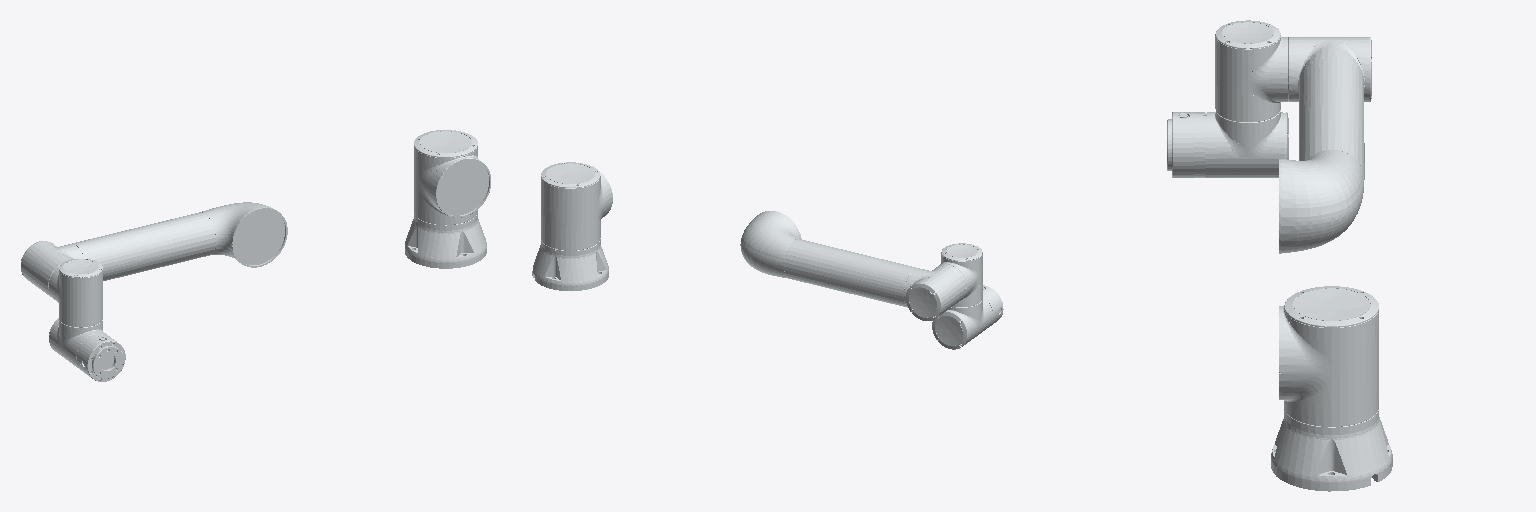
robot.urdf — fr5v6:
<?xml version="1.0" encoding="utf-8"?>
<!-- This URDF was automatically created by SolidWorks to URDF Exporter! Originally created by [author] ([email redacted]) 
     Commit Version: 1.5.1-0-g916b5db  Build Version: 1.5.7152.31018
     For more information, please see http://wiki.ros.org/sw_urdf_exporter -->
<robot
  name="fr5v6">
  
  <link name="world">
  </link>
  <joint name="world" type="fixed">
    <parent link="world"/>
    <child link="base_link"/>
  </joint>

  <link
    name="base_link">
    <inertial>
      <origin
        xyz="-0.00031896 -0.00029673 0.042463"
        rpy="0 0 0" />
      <mass
        value="1.6185" />
      <inertia
        ixx="0.0030836"
        ixy="1.5354E-05"
        ixz="-1.9315E-05"
        iyy="0.0030825"
        iyz="-1.7918E-05"
        izz="0.0045209" />
    </inertial>
    <visual>
      <origin
        xyz="0 0 0"
        rpy="0 0 0" />
      <geometry>
        <mesh
          filename="package://fr5_description/meshes/fr5v6/visual/base_link.DAE" />
      </geometry>
      <material
        name="">
        <color
          rgba="0.89804 0.91765 0.92941 1" />
      </material>
    </visual>
    <collision>
      <origin
        xyz="0 0 0"
        rpy="0 0 0" />
      <geometry>
        <mesh
          filename="package://fr5_description/meshes/fr5v6/collision/base_link.STL" />
      </geometry>
    </collision>
  </link>
  <link
    name="j1_Link">
    <inertial>
      <origin
        xyz="5.0029E-07 -0.0040922 0.14629"
        rpy="0 0 0" />
      <mass
        value="4.3771" />
      <inertia
        ixx="0.010731"
        ixy="-8.0587E-09"
        ixz="-3.6773E-08"
        iyy="0.010408"
        iyz="0.00012853"
        izz="0.0081793" />
    </inertial>
    <visual>
      <origin
        xyz="0 0 0"
        rpy="0 0 0" />
      <geometry>
        <mesh
          filename="package://fr5_description/meshes/fr5v6/visual/j1_Link.DAE" />
      </geometry>
      <material
        name="">
        <color
          rgba="0.89804 0.91765 0.92941 1" />
      </material>
    </visual>
    <collision>
      <origin
        xyz="0 0 0"
        rpy="0 0 0" />
      <geometry>
        <mesh
          filename="package://fr5_description/meshes/fr5v6/collision/j1_Link.STL" />
      </geometry>
    </collision>
  </link>
  <joint
    name="j1"
    type="revolute">
    <origin
      xyz="0 0 0"
      rpy="0 0 0" />
    <parent
      link="base_link" />
    <child
      link="j1_Link" />
    <axis
      xyz="0 0 1" />
    <limit
      lower="-3.0543"
      upper="3.0543"
      effort="150"
      velocity="3.15" />
    <calibration
      rising="0"
      falling="0" />
    <dynamics
      damping="0"
      friction="0" />
    <safety_controller
      soft_lower_limit="-3.0543"
      soft_upper_limit="3.0543"
      k_position="15"
      k_velocity="10" />
  </joint>
  <link
    name="j2_Link">
    <inertial>
      <origin
        xyz="-0.2125 -5.7643E-09 0.1346"
        rpy="0 0 0" />
      <mass
        value="14.458" />
      <inertia
        ixx="0.028392"
        ixy="-1.337E-07"
        ixz="-3.9895E-09"
        iyy="0.4559"
        iyz="4.214E-08"
        izz="0.44974" />
    </inertial>
    <visual>
      <origin
        xyz="0 0 0"
        rpy="0 0 0" />
      <geometry>
        <mesh
          filename="package://fr5_description/meshes/fr5v6/visual/j2_Link.DAE" />
      </geometry>
      <material
        name="">
        <color
          rgba="0.89804 0.91765 0.92941 1" />
      </material>
    </visual>
    <collision>
      <origin
        xyz="0 0 0"
        rpy="0 0 0" />
      <geometry>
        <mesh
          filename="package://fr5_description/meshes/fr5v6/collision/j2_Link.STL" />
      </geometry>
    </collision>
  </link>
  <joint
    name="j2"
    type="revolute">
    <origin
      xyz="0 0 0.152"
      rpy="1.5708 0 0" />
    <parent
      link="j1_Link" />
    <child
      link="j2_Link" />
    <axis
      xyz="0 0 1" />
    <limit
      lower="-4.6251"
      upper="1.4835"
      effort="150"
      velocity="3.15" />
    <calibration
      rising="0"
      falling="0" />
    <dynamics
      damping="0"
      friction="0" />
    <safety_controller
      soft_lower_limit="-4.6251"
      soft_upper_limit="1.4835"
      k_position="15"
      k_velocity="10" />
  </joint>
  <link
    name="j3_Link">
    <inertial>
      <origin
        xyz="-0.18793 -8.4503E-07 0.0066357"
        rpy="0 0 0" />
      <mass
        value="7.6737" />
      <inertia
        ixx="0.0085096"
        ixy="2.1613E-06"
        ixz="-0.0068678"
        iyy="0.16971"
        iyz="3.7086E-08"
        izz="0.16854" />
    </inertial>
    <visual>
      <origin
        xyz="0 0 0"
        rpy="0 0 0" />
      <geometry>
        <mesh
          filename="package://fr5_description/meshes/fr5v6/visual/j3_Link.DAE" />
      </geometry>
      <material
        name="">
        <color
          rgba="0.89804 0.91765 0.92941 1" />
      </material>
    </visual>
    <collision>
      <origin
        xyz="0 0 0"
        rpy="0 0 0" />
      <geometry>
        <mesh
          filename="package://fr5_description/meshes/fr5v6/collision/j3_Link.STL" />
      </geometry>
    </collision>
  </link>
  <joint
    name="j3"
    type="revolute">
    <origin
      xyz="-0.425 0 0"
      rpy="0 0 0" />
    <parent
      link="j2_Link" />
    <child
      link="j3_Link" />
    <axis
      xyz="0 0 1" />
    <limit
      lower="-2.8274"
      upper="2.8274"
      effort="150"
      velocity="3.15" />
    <calibration
      rising="0"
      falling="0" />
    <dynamics
      damping="0"
      friction="0" />
    <safety_controller
      soft_lower_limit="-2.8274"
      soft_upper_limit="2.8274"
      k_position="15"
      k_velocity="10" />
  </joint>
  <link
    name="j4_Link">
    <inertial>
      <origin
        xyz="4.98E-07 -0.003754 0.097155"
        rpy="0 0 0" />
      <mass
        value="1.6266" />
      <inertia
        ixx="0.00216"
        ixy="4.888E-09"
        ixz="3.1528E-08"
        iyy="0.0015455"
        iyz="3.7678E-05"
        izz="0.0019902" />
    </inertial>
    <visual>
      <origin
        xyz="0 0 0"
        rpy="0 0 0" />
      <geometry>
        <mesh
          filename="package://fr5_description/meshes/fr5v6/visual/j4_Link.DAE" />
      </geometry>
      <material
        name="">
        <color
          rgba="0.89804 0.91765 0.92941 1" />
      </material>
    </visual>
    <collision>
      <origin
        xyz="0 0 0"
        rpy="0 0 0" />
      <geometry>
        <mesh
          filename="package://fr5_description/meshes/fr5v6/collision/j4_Link.STL" />
      </geometry>
    </collision>
  </link>
  <joint
    name="j4"
    type="revolute">
    <origin
      xyz="-0.39501 0 0"
      rpy="0 0 0" />
    <parent
      link="j3_Link" />
    <child
      link="j4_Link" />
    <axis
      xyz="0 0 1" />
    <limit
      lower="-4.6251"
      upper="1.4835"
      effort="28"
      velocity="3.2" />
    <calibration
      rising="0"
      falling="0" />
    <dynamics
      damping="0"
      friction="0" />
    <safety_controller
      soft_lower_limit="-4.6251"
      soft_upper_limit="1.4835"
      k_position="15"
      k_velocity="10" />
  </joint>
  <link
    name="j5_Link">
    <inertial>
      <origin
        xyz="-4.5588E-07 0.0038617 0.098257"
        rpy="0 0 0" />
      <mass
        value="1.5812" />
      <inertia
        ixx="0.0020612"
        ixy="8.7064E-09"
        ixz="-3.4742E-08"
        iyy="0.0014477"
        iyz="-2.8534E-05"
        izz="0.0019573" />
    </inertial>
    <visual>
      <origin
        xyz="0 0 0"
        rpy="0 0 0" />
      <geometry>
        <mesh
          filename="package://fr5_description/meshes/fr5v6/visual/j5_Link.DAE" />
      </geometry>
      <material
        name="">
        <color
          rgba="0.89804 0.91765 0.92941 1" />
      </material>
    </visual>
    <collision>
      <origins
        xyz="0 0 0"
        rpy="0 0 0" />
      <geometry>
        <mesh
          filename="package://fr5_description/meshes/fr5v6/collision/j5_Link.STL" />
      </geometry>
    </collision>
  </link>
  <joint
    name="j5"
    type="revolute">
    <origin
      xyz="0 0 0.1021"
      rpy="1.5708 0 0" />
    <parent
      link="j4_Link" />
    <child
      link="j5_Link" />
    <axis
      xyz="0 0 1" />
    <limit
      lower="-3.0543"
      upper="3.0543"
      effort="28"
      velocity="3.2" />
    <calibration
      rising="0"
      falling="0" />
    <dynamics
      damping="0"
      friction="0" />
    <safety_controller
      soft_lower_limit="-3.0543"
      soft_upper_limit="3.0543"
      k_position="15"
      k_velocity="10" />
  </joint>
  <link
    name="j6_Link">
    <inertial>
      <origin
        xyz="7.7496E-05 1.7751E-05 0.076122"
        rpy="0 0 0" />
      <mass
        value="0.52542" />
      <inertia
        ixx="0.00027721"
        ixy="-1.8677E-09"
        ixz="-1.188E-07"
        iyy="0.00027839"
        iyz="2.2607E-07"
        izz="0.00041605" />
    </inertial>
    <visual>
      <origin
        xyz="0 0 0"
        rpy="0 0 0" />
      <geometry>
        <mesh
          filename="package://fr5_description/meshes/fr5v6/visual/j6_Link.DAE" />
      </geometry>
      <material
        name="">
        <color
          rgba="0.89804 0.91765 0.92941 1" />
      </material>
    </visual>
    <collision>
      <origin
        xyz="0 0 0"
        rpy="0 0 0" />
      <geometry>
        <mesh
          filename="package://fr5_description/meshes/fr5v6/collision/j6_Link.STL" />
      </geometry>
    </collision>
  </link>
  <joint
    name="j6"
    type="revolute">
    <origin
      xyz="0 0 0.102"
      rpy="-1.5708 0 0" />
    <parent
      link="j5_Link" />
    <child
      link="j6_Link" />
    <axis
      xyz="0 0 1" />
    <limit
      lower="-3.0543"
      upper="3.0543"
      effort="28"
      velocity="3.2" />
    <calibration
      rising="0"
      falling="0" />
    <dynamics
      damping="0"
      friction="0" />
    <safety_controller
      soft_lower_limit="-3.0543"
      soft_upper_limit="3.0543"
      k_position="15"
      k_velocity="10" />
  </joint>
  
  <link
    name="hand_base_link">
    <inertial>
      <origin
        xyz="1.045 -0.01 -0.1"
        rpy="0 0 0" />
      <mass
        value="1.415640442478951" />
      <inertia
        ixx="0.00019621588068043"
        ixy="-2.95674210904856E-07"
        ixz="-1.95611838748227E-08"
        iyy="0.000433342528155916"
        iyz="2.12715894328206E-08"
        izz="0.000396532471899526" />
    </inertial>
    <visual>
      <origin
        xyz="0.04 -0.005 0"
        rpy="0 0 0" />
      <geometry>
        <mesh
          filename="package://fr5_description/meshes/hand_base_link.STL" />
      </geometry>
      <material
        name="">
        <color
          rgba="1 1 1 1" />
      </material>
    </visual>
    <collision>
      <origin
        xyz="0.04 -0.005 0"
        rpy="0 0 0" />
      <geometry>
        <mesh
          filename="package://fr5_description/meshes/hand_base_link.STL" />
      </geometry>
    </collision>
  </link>
  <joint name="arm_hand_joint" type="fixed">
    <origin xyz="0 0 0.12" rpy="0 0 3.14159" />
    <parent link="j6_Link" />
    <child link="hand_base_link" />
    <axis xyz="0 0 0" />
  <limit lower="-2.79" upper="2.79" effort="100"/>
  </joint>
  <link
    name="finger_link1">
    <inertial>
      <origin
        xyz="-0.0765920818887161 0.0785524897759977 0.00485564932597477"
        rpy="0 0 0" />
      <mass
        value="0.0589543896992846" />
      <inertia
        ixx="2.37128965154064E-05"
        ixy="4.94815116549898E-06"
        ixz="-3.83269385718325E-06"
        iyy="1.98369145830284E-05"
        iyz="4.62772008724202E-06"
        izz="3.37272907966157E-05" />
    </inertial>
    <visual>
      <origin
        xyz="0 0 0"
        rpy="0 0 0" />
      <geometry>
        <mesh
          filename="package://fr5_description/meshes/finger_link1.STL" />
      </geometry>
      <material
        name="">
        <color
          rgba="1 1 1 1" />
      </material>
    </visual>
    <collision>
      <origin
        xyz="0 0 0"
        rpy="0 0 0" />
      <geometry>
        <mesh
          filename="package://fr5_description/meshes/finger_link1.STL" />
      </geometry>
    </collision>
  </link>

  <joint
    name="fj1"
    type="prismatic">
    <origin
      xyz="0.0445 0 0"
      rpy="1.5708 0 0" />
    <parent
      link="hand_base_link" />
    <child
      link="finger_link1" />
    <axis
      xyz="1 0 0" />
    <limit
      lower="0"
      upper="0.04"
      effort="40"
      velocity="1" />
  </joint>
  <link
    name="finger_link2">
    <inertial>
      <origin
        xyz="-0.0765920818887161 0.0800524897759977 0.00485564932597478"
        rpy="0 0 0" />
      <mass
        value="0.0589543896992846" />
      <inertia
        ixx="2.37128965154064E-05"
        ixy="4.94815116549897E-06"
        ixz="-3.83269385718325E-06"
        iyy="1.98369145830285E-05"
        iyz="4.62772008724202E-06"
        izz="3.37272907966157E-05" />
    </inertial>
    <visual>
      <origin
        xyz="0 0 0"
        rpy="0 0 0" />
      <geometry>
        <mesh
          filename="package://fr5_description/meshes/finger_link2.STL" />
      </geometry>
      <material
        name="">
        <color
          rgba="1 1 1 1" />
      </material>
    </visual>
    <collision>
      <origin
        xyz="0 0 0"
        rpy="0 0 0" />
      <geometry>
        <mesh
          filename="package://fr5_description/meshes/finger_link2.STL" />
      </geometry>
    </collision>
  </link>
  <joint
    name="fj2"
    type="prismatic">
    <origin
      xyz="-0.0425 0.0087157 -0.0015"
      rpy="1.5708 0 3.1416" />
    <parent
      link="hand_base_link" />
    <child
      link="finger_link2" />
    <axis
      xyz="1 0 0" />
    <limit
      lower="0"
      upper="0.04"
      effort="40"
      velocity="1" />
  </joint>



</robot>

--- Render facts (derived) ---
Views: 3 orthographic renders of the robot side by side, from view 1: azimuth 30°, elevation 25°; view 2: azimuth 150°, elevation 25°; view 3: azimuth 270°, elevation 25°.
Model fr5v6 with 11 links and 10 joints (6 revolute, 2 prismatic, 2 fixed), rooted at world, posed all joints at 0.
Visible links, largest first — view 1: j3_Link, j1_Link, base_link, j4_Link, j6_Link, j5_Link; view 2: j3_Link, j1_Link, base_link, j5_Link, j4_Link; view 3: j3_Link, j1_Link, base_link, j4_Link, j5_Link, j6_Link.
Link boxes in pixels (bbox=[...]): j3_Link: bbox=[21, 202, 287, 296]; j1_Link: bbox=[414, 130, 490, 224]; base_link: bbox=[405, 214, 486, 268]; j4_Link: bbox=[49, 259, 102, 327]; j6_Link: bbox=[77, 333, 125, 381]; j5_Link: bbox=[49, 318, 105, 368]; j3_Link: bbox=[740, 211, 966, 320]; j1_Link: bbox=[541, 162, 612, 250]; base_link: bbox=[532, 238, 608, 290]; j5_Link: bbox=[932, 297, 992, 349]; j4_Link: bbox=[939, 243, 982, 306]; j3_Link: bbox=[1279, 37, 1371, 253]; j1_Link: bbox=[1279, 286, 1378, 426]; base_link: bbox=[1271, 408, 1392, 491]; j4_Link: bbox=[1215, 20, 1287, 121]; j5_Link: bbox=[1205, 110, 1288, 177]; j6_Link: bbox=[1167, 112, 1204, 177].
Bounding box of the posed robot: 0.9344 × 0.2756 × 0.2174 m (x, y, z).
6 mesh visuals loaded from 10 distinct referenced files (6 Collada DAE); not drawn: 4 (reference not matched to a file when rendering).
